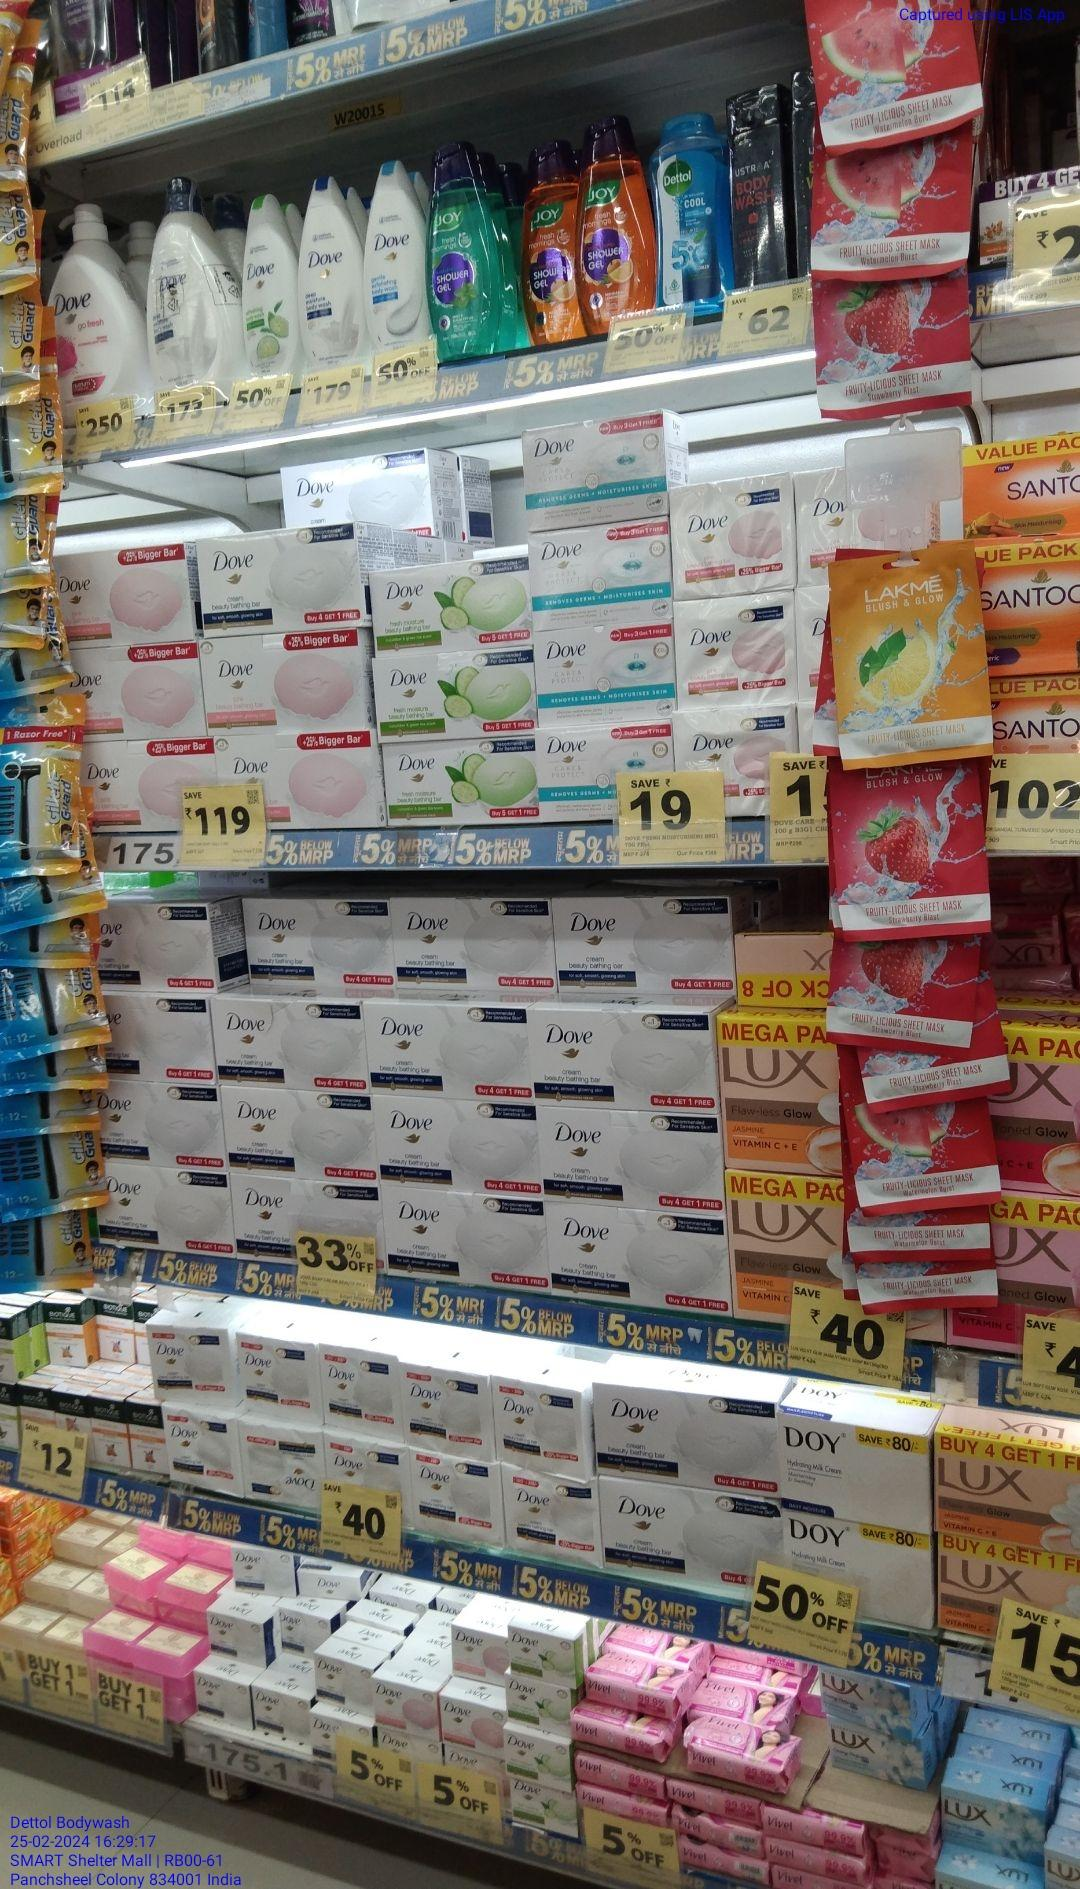Dettol_Bodywash_Cool: (656, 114, 724, 302)
Dove_Deep_Moisture_Body_Wash_250ML: (297, 176, 361, 375)
Dove_Gentle_Exfoliating_Body_Wash_250ML: (365, 161, 427, 362)
Dove_Refreshing_Body_Wash_250ML: (240, 193, 296, 375)
Joy_Shower_Gel_Mandarin_and_Lemongrass_250ML: (583, 117, 649, 336), (523, 138, 576, 345)
Joy_Shower_Gel_Mint_and_Eucalyptus_250ML: (428, 141, 496, 358)
